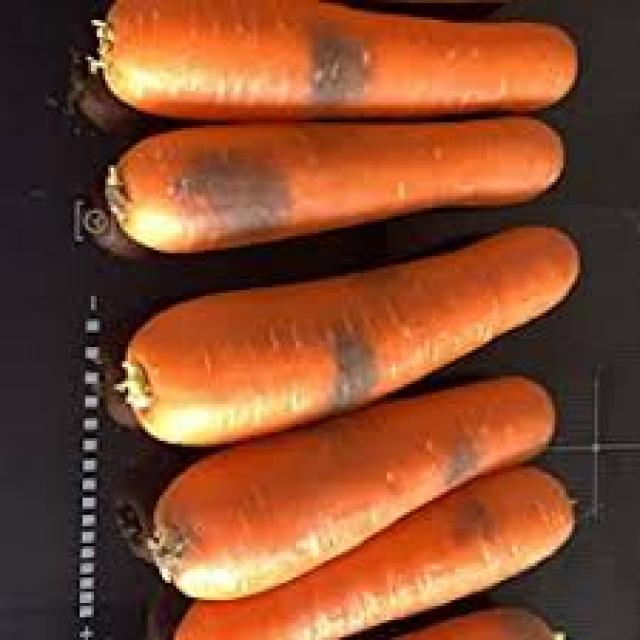Stale_Carrot: (108, 122, 365, 248), (236, 0, 440, 127), (283, 274, 424, 431), (403, 472, 548, 548), (404, 412, 523, 498)
